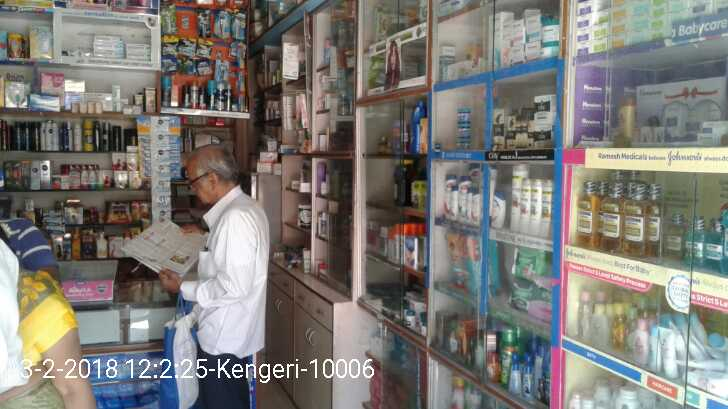beauty: (512, 164, 524, 234), (531, 122, 556, 153), (489, 188, 507, 231), (542, 178, 553, 242), (530, 180, 542, 236), (520, 178, 531, 237), (491, 108, 507, 148), (442, 172, 455, 219), (533, 92, 554, 121), (212, 8, 228, 39), (470, 189, 483, 226), (231, 39, 247, 69), (231, 10, 245, 40), (517, 122, 530, 152), (216, 60, 231, 81), (194, 56, 209, 74), (450, 185, 457, 221)
pharmacy: (459, 234, 498, 298), (513, 242, 561, 288), (509, 276, 553, 318), (455, 103, 471, 124), (456, 124, 471, 138)
